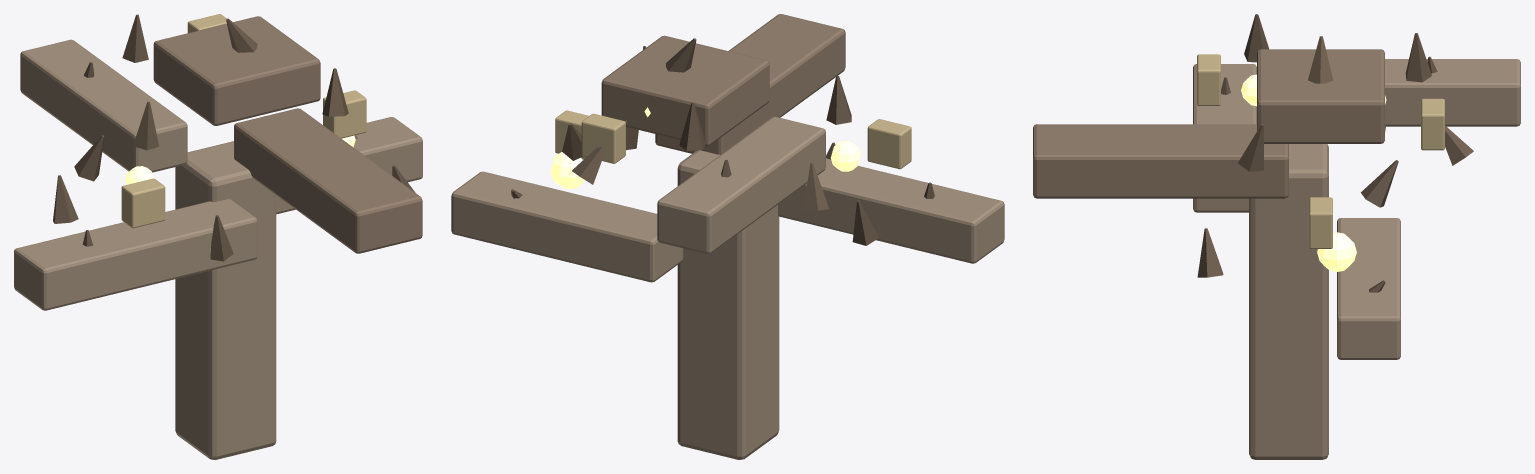
File: withered_bramble_v2.glb
3 views of the same model, side by side, from view 1: azimuth 30°, elevation 25°; view 2: azimuth 150°, elevation 25°; view 3: azimuth 270°, elevation 25° (orthographic). The views are drawn at different scales.
Parts seen in each view (by area): view 1: Trunk, Branch_2, Branch_1, Branch_4, Branch_3, Branch_0, DryLeaf_1, DryLeaf_0, Thorn_5, Thorn_6, Thorn_8, Thorn_12 (+4 smaller); view 2: Trunk, Branch_0, Branch_3, Branch_1, Branch_4, Branch_2, DryLeaf_1, DryLeaf_2, Resin_1, Thorn_14, Thorn_12, Resin_2 (+5 smaller); view 3: Trunk, Branch_2, Branch_4, Branch_0, Branch_3, Branch_1, DryLeaf_2, DryLeaf_0, DryLeaf_1, Resin_1, Thorn_11, Thorn_14 (+5 smaller).
Part boxes in pixels (x1,y1,x2,y2): Trunk: [175, 141, 276, 459]; Branch_2: [234, 108, 422, 253]; Branch_1: [14, 199, 257, 310]; Branch_4: [153, 16, 320, 125]; Branch_3: [20, 39, 187, 172]; Branch_0: [276, 117, 422, 214]; DryLeaf_1: [121, 178, 165, 228]; DryLeaf_0: [323, 90, 366, 138]; Thorn_5: [322, 68, 348, 116]; Thorn_6: [74, 135, 104, 181]; Thorn_8: [53, 175, 78, 223]; Thorn_12: [133, 101, 158, 150]; Trunk: [677, 150, 779, 459]; Branch_0: [451, 171, 683, 282]; Branch_3: [657, 116, 825, 254]; Branch_1: [778, 158, 1004, 263]; Branch_4: [601, 35, 769, 146]; Branch_2: [655, 14, 845, 154]; DryLeaf_1: [867, 119, 911, 169]; DryLeaf_2: [581, 113, 625, 163]; Resin_1: [550, 152, 584, 188]; Thorn_14: [679, 102, 705, 150]; Thorn_12: [826, 75, 851, 124]; Resin_2: [831, 141, 860, 171]; Trunk: [1249, 144, 1328, 459]; Branch_2: [1033, 124, 1288, 198]; Branch_4: [1257, 49, 1384, 143]; Branch_0: [1337, 218, 1400, 359]; Branch_3: [1385, 59, 1520, 126]; Branch_1: [1193, 64, 1256, 212]; DryLeaf_2: [1421, 98, 1444, 150]; DryLeaf_0: [1309, 197, 1332, 248]; DryLeaf_1: [1197, 54, 1220, 105]; Resin_1: [1317, 232, 1356, 271]; Thorn_11: [1361, 160, 1398, 207]; Thorn_14: [1405, 33, 1431, 82].
Bounding box in the file's own units: 0.67 × 0.5774 × 0.61.
